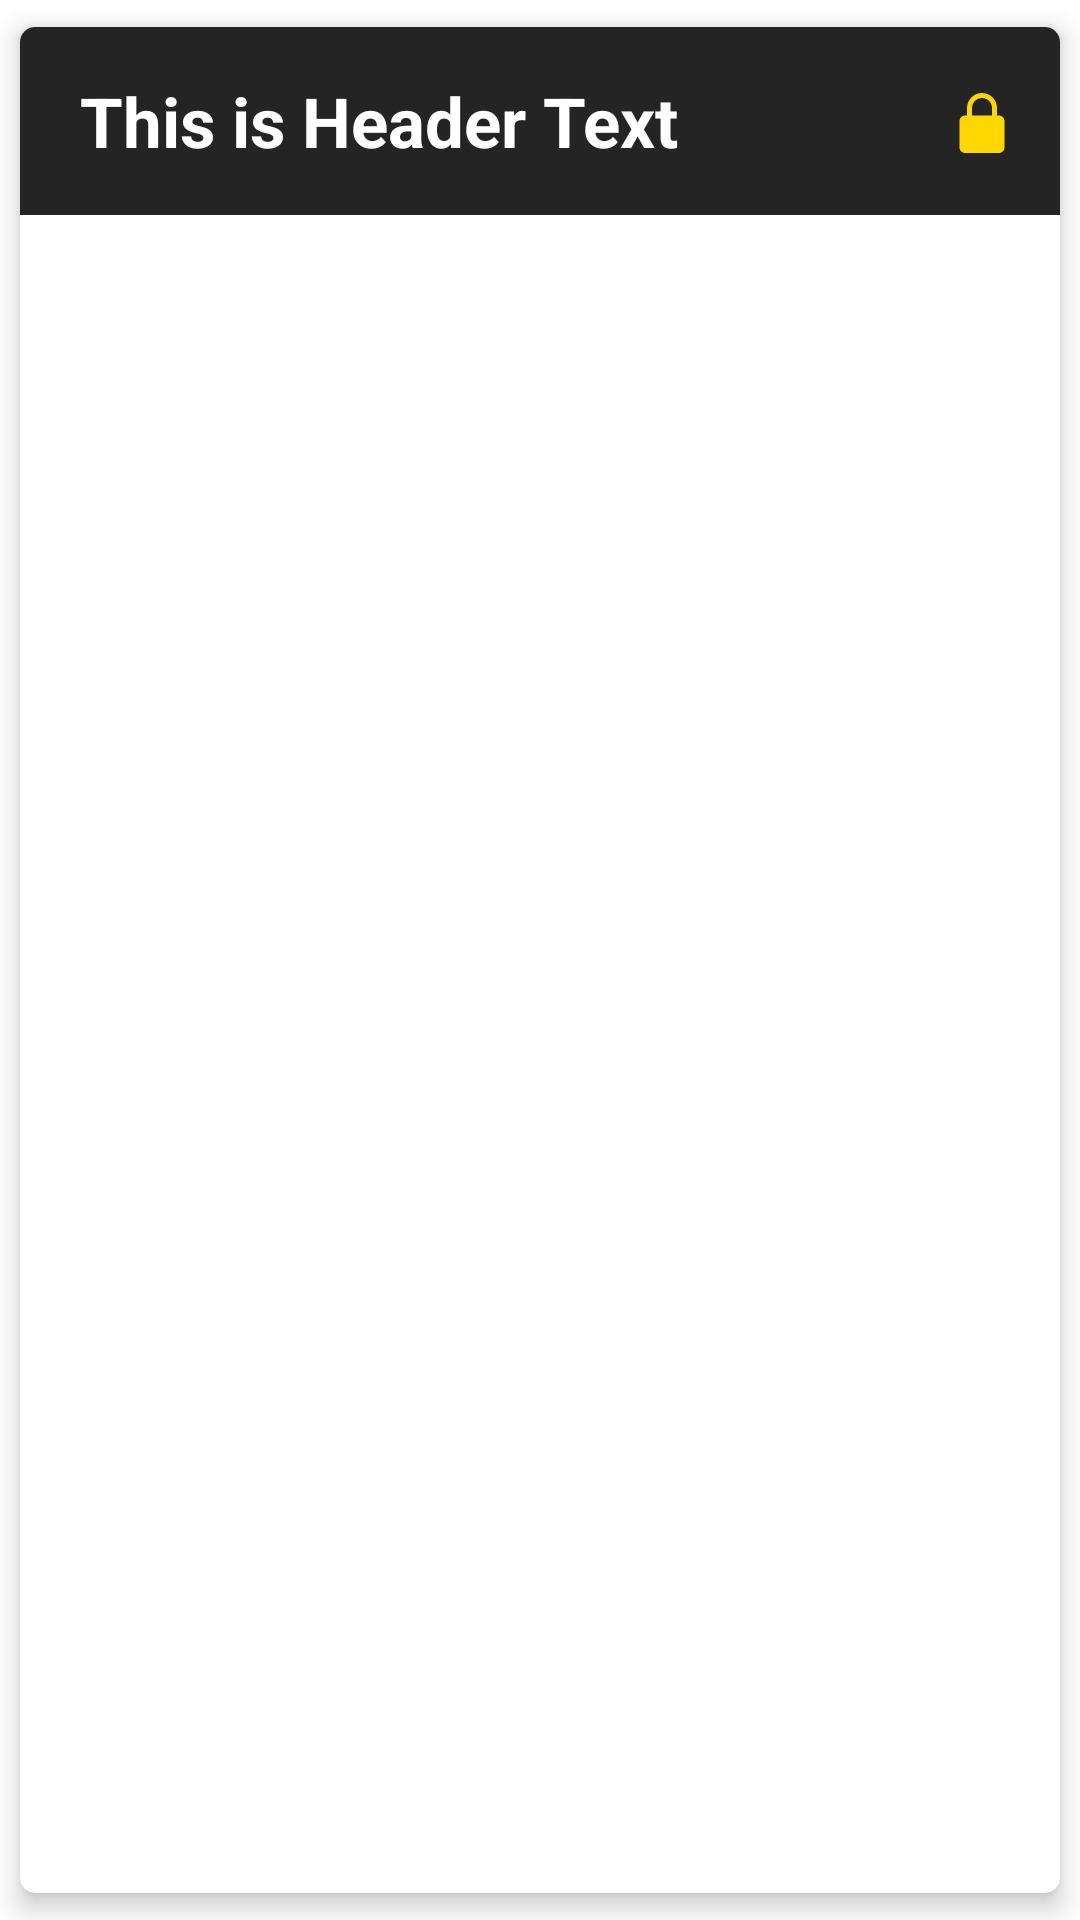

Named icons in this screenshot (1080 × 1920) and their centers, point (x, y):
lock: point (982, 123)
